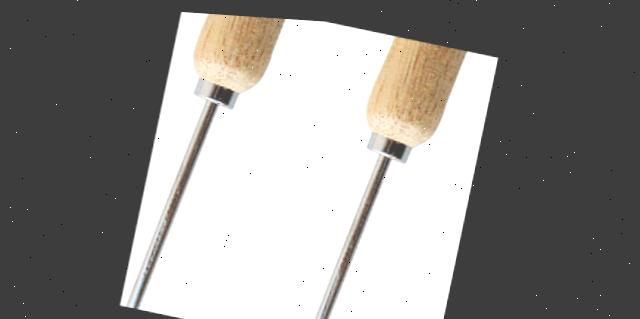ice pick: (279, 17, 499, 319), (122, 7, 324, 319)
